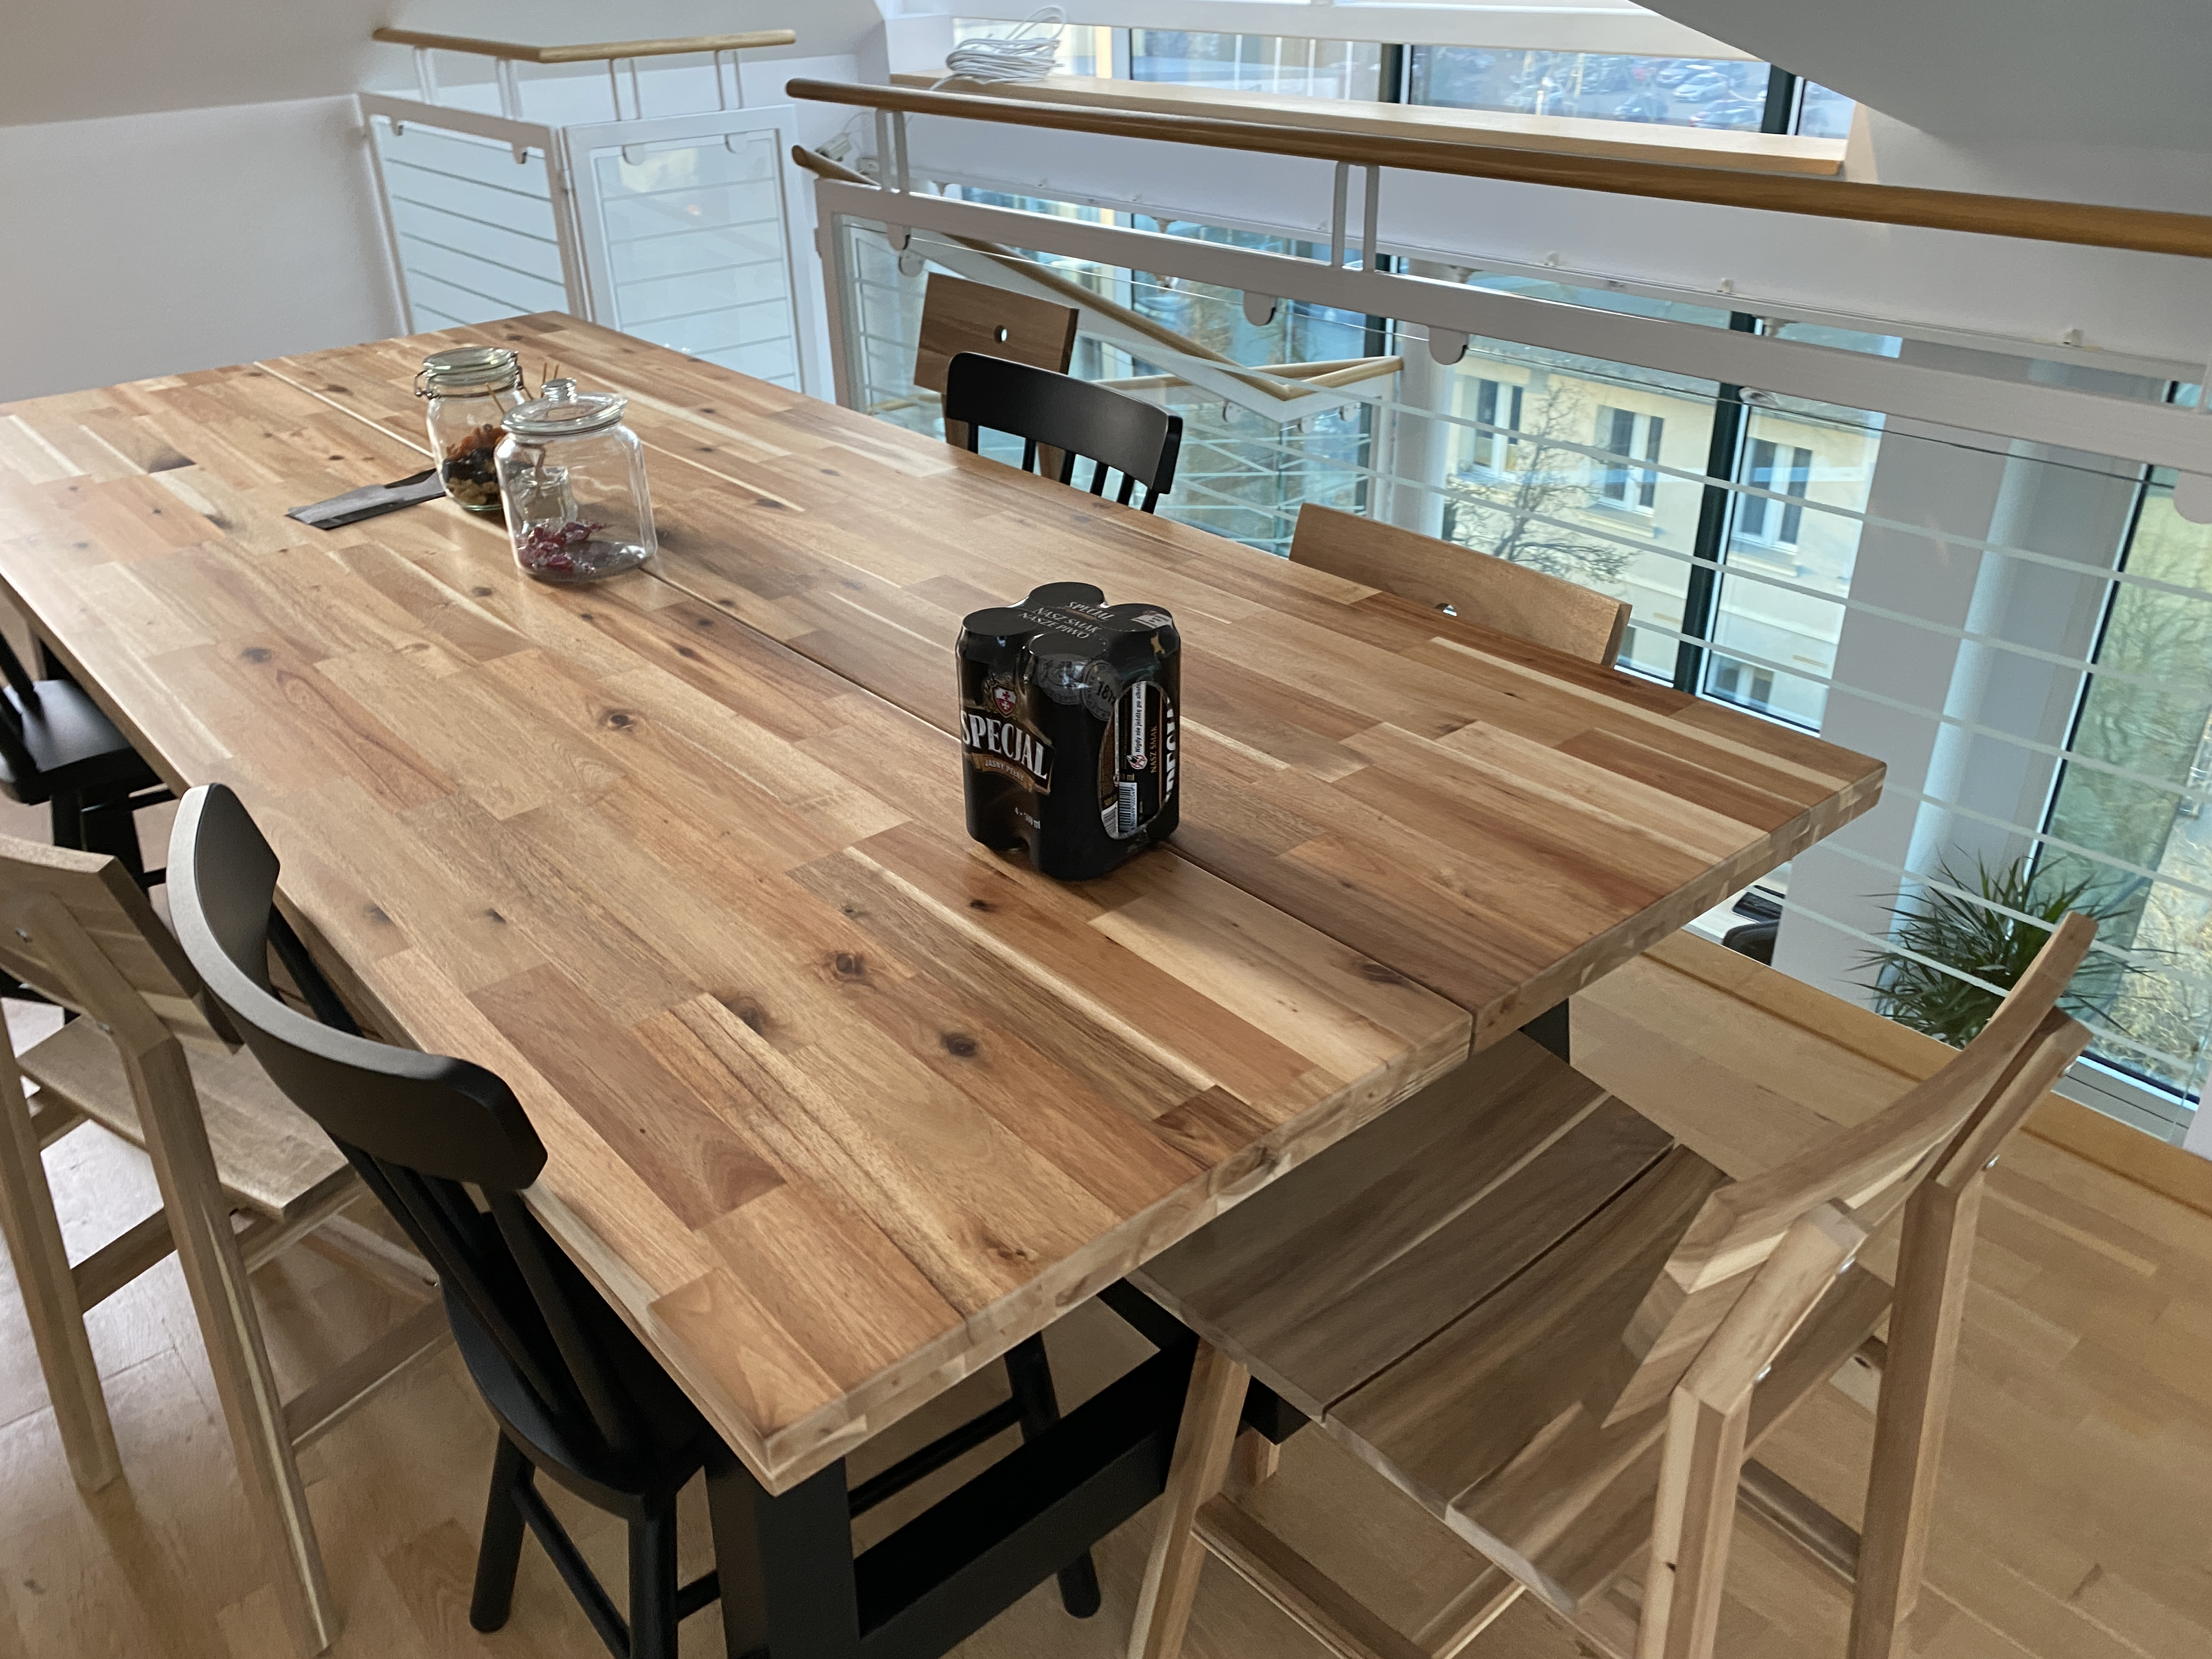specjal: (958, 579, 1186, 887)
